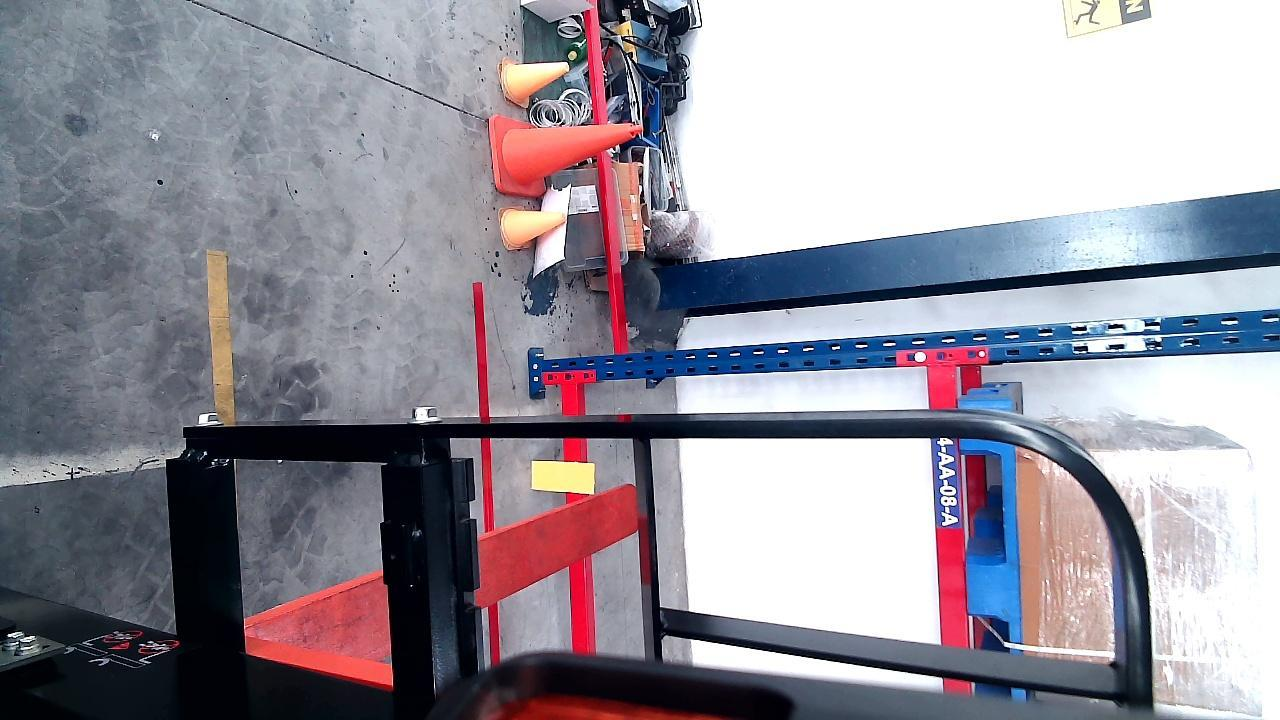red_line: (468, 280, 501, 666)
yellow_line: (208, 245, 236, 423)
